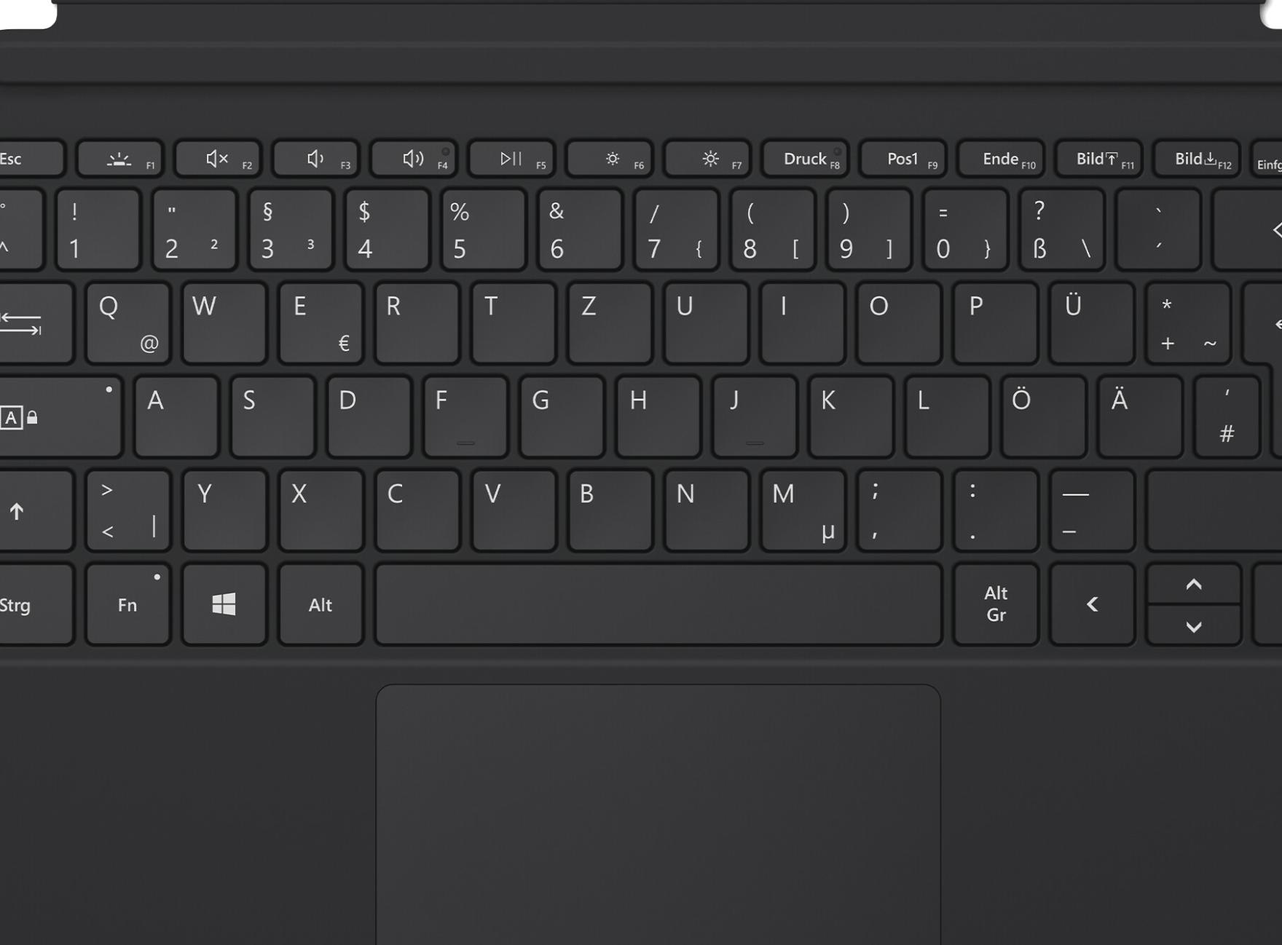0: (917, 181, 1007, 271)
1: (50, 181, 138, 267)
2: (146, 182, 236, 269)
3: (241, 181, 331, 268)
4: (340, 181, 427, 266)
5: (434, 181, 523, 268)
6: (532, 181, 620, 268)
7: (629, 183, 717, 269)
8: (724, 182, 811, 269)
9: (819, 182, 908, 270)
a: (129, 368, 216, 455)
accent: (1111, 181, 1199, 266)
ae: (1092, 368, 1181, 456)
alt-left: (274, 558, 363, 644)
altgr-right: (948, 558, 1038, 645)
b: (562, 462, 651, 550)
c: (369, 462, 457, 550)
caret: (1, 182, 40, 267)
comma: (852, 462, 939, 550)
d: (321, 368, 410, 456)
del: (1207, 181, 1282, 269)
e: (272, 275, 362, 363)
enter: (1240, 274, 1282, 456)
f: (417, 368, 506, 455)
g: (514, 368, 602, 455)
h: (610, 369, 699, 456)
hash: (1190, 369, 1258, 457)
i: (755, 274, 842, 361)
j: (708, 368, 795, 455)
k: (803, 368, 892, 455)
keyboard: (1, 77, 1282, 668)
l: (900, 368, 987, 455)
less: (79, 462, 169, 550)
m: (754, 462, 843, 550)
minus: (1043, 462, 1132, 549)
n: (658, 462, 746, 550)
o: (850, 274, 939, 362)
oe: (995, 368, 1084, 456)
p: (947, 274, 1037, 363)
plus: (1141, 274, 1230, 363)
point: (947, 462, 1037, 548)
q: (79, 275, 169, 363)
r: (370, 275, 457, 363)
s: (225, 369, 313, 456)
shift-left: (1, 463, 71, 550)
shift-lock: (1, 368, 121, 456)
shift-right: (1141, 459, 1282, 549)
space: (367, 555, 944, 646)
ss: (1012, 182, 1102, 269)
strg-left: (1, 555, 72, 644)
t: (466, 275, 553, 362)
tab: (1, 274, 71, 363)
u: (658, 275, 745, 363)
ue: (1043, 274, 1132, 363)
v: (465, 462, 554, 550)
w: (176, 274, 263, 363)
x: (273, 462, 362, 550)
y: (177, 462, 265, 550)
z: (563, 275, 650, 363)
